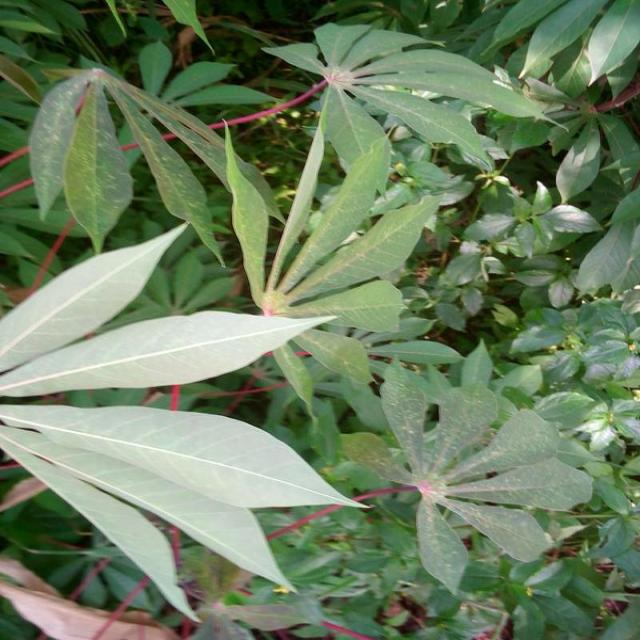cassava leaf: (2, 401, 374, 620), (341, 361, 594, 598), (1, 307, 339, 398)
